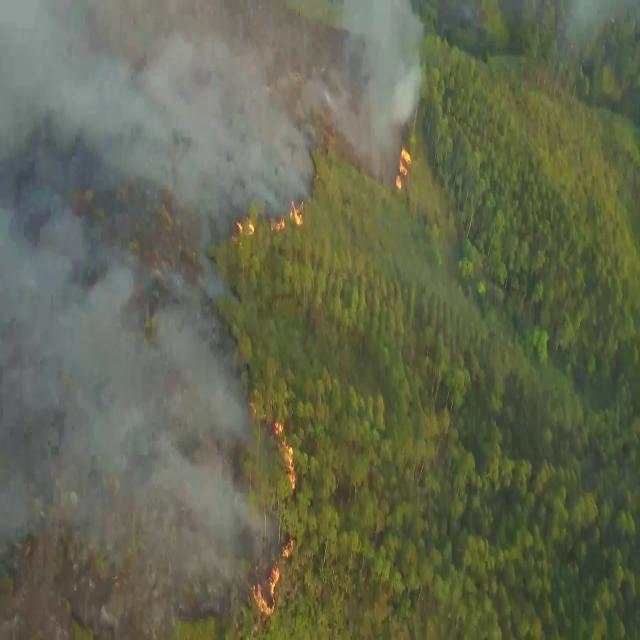Fire: (250, 536, 294, 614), (272, 418, 298, 492), (272, 200, 304, 233), (394, 146, 412, 190)
Smoke: (1, 1, 426, 630)
